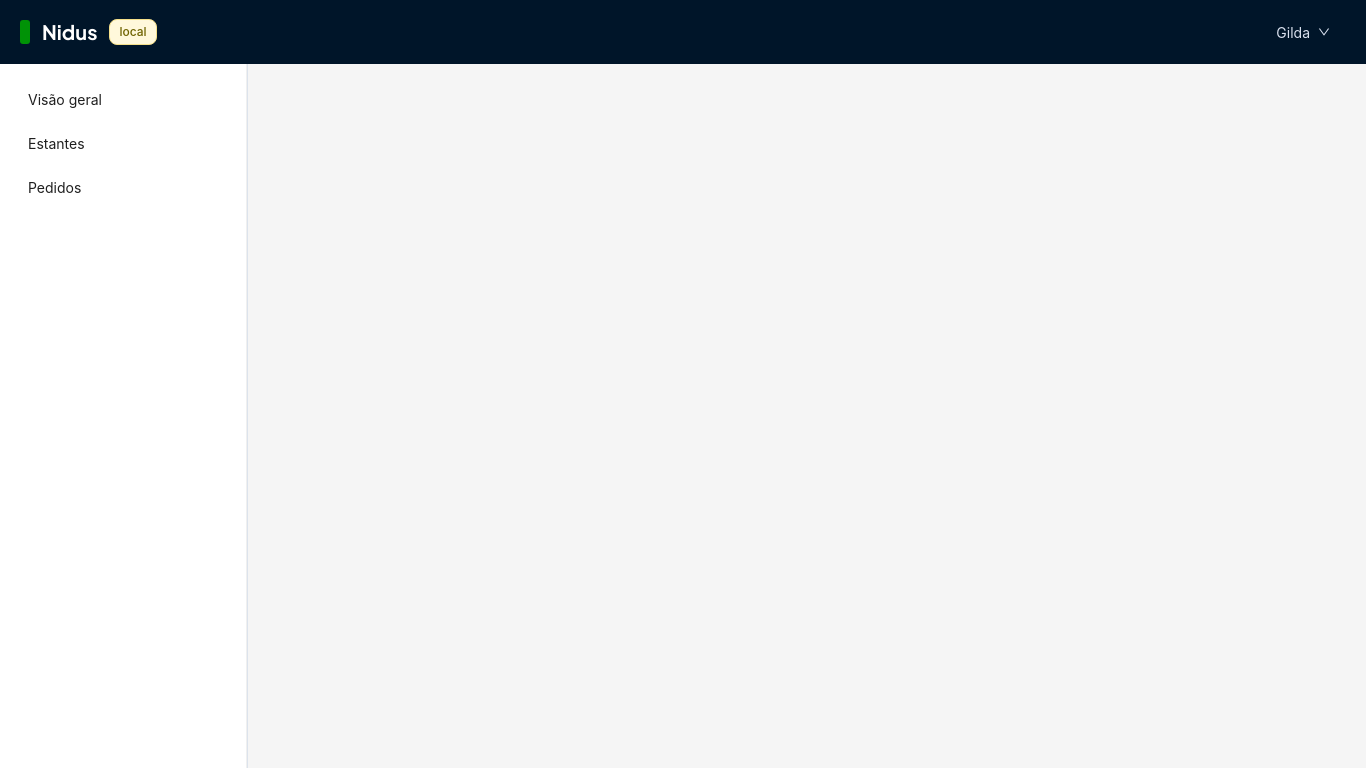
it: Tema escuro no menu da conta › começa claro, liga e desliga, e grava e aplica a escolha
Click the button with aria-label "Menu da conta": click(1303, 32) [1260,16,1346,48]
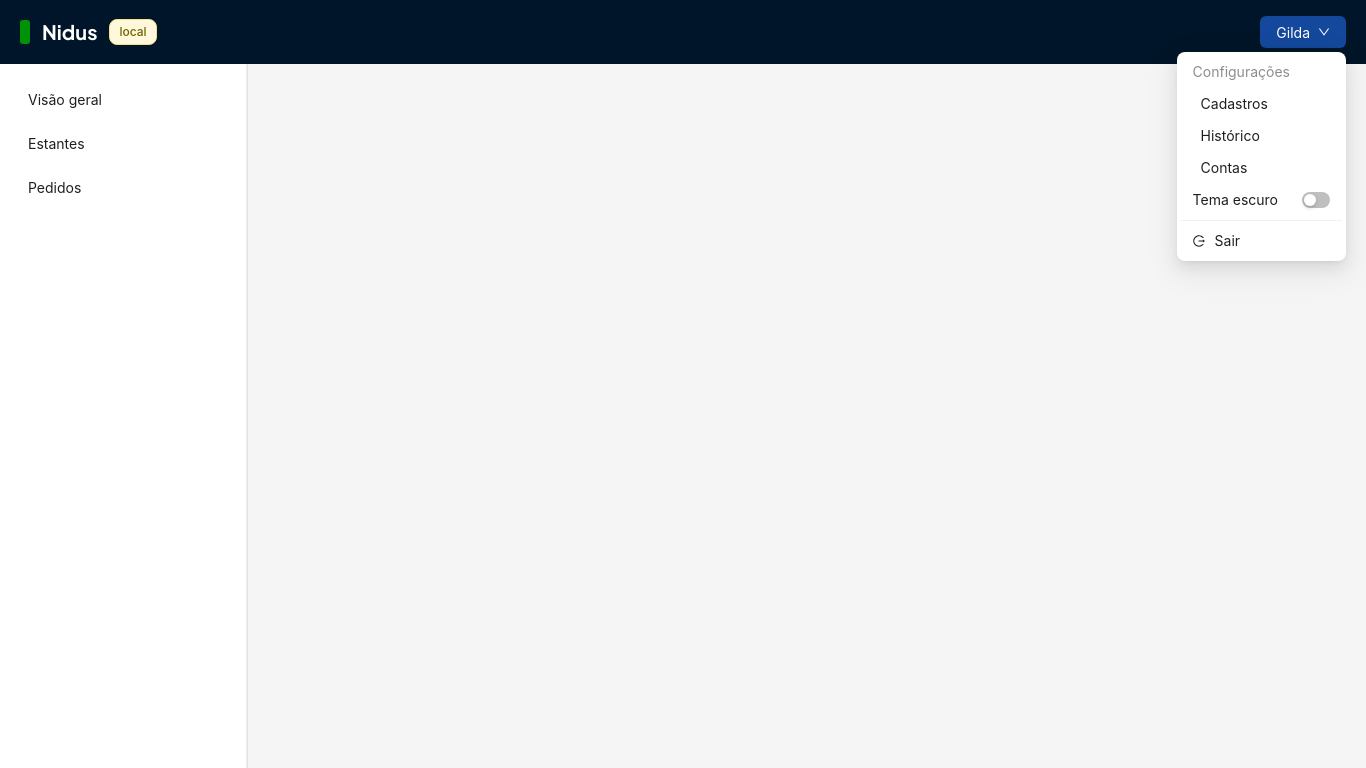
// Clicar na linha troca o tema
Click the menu item "Tema escuro": click(1261, 200) [1193,191,1330,208]
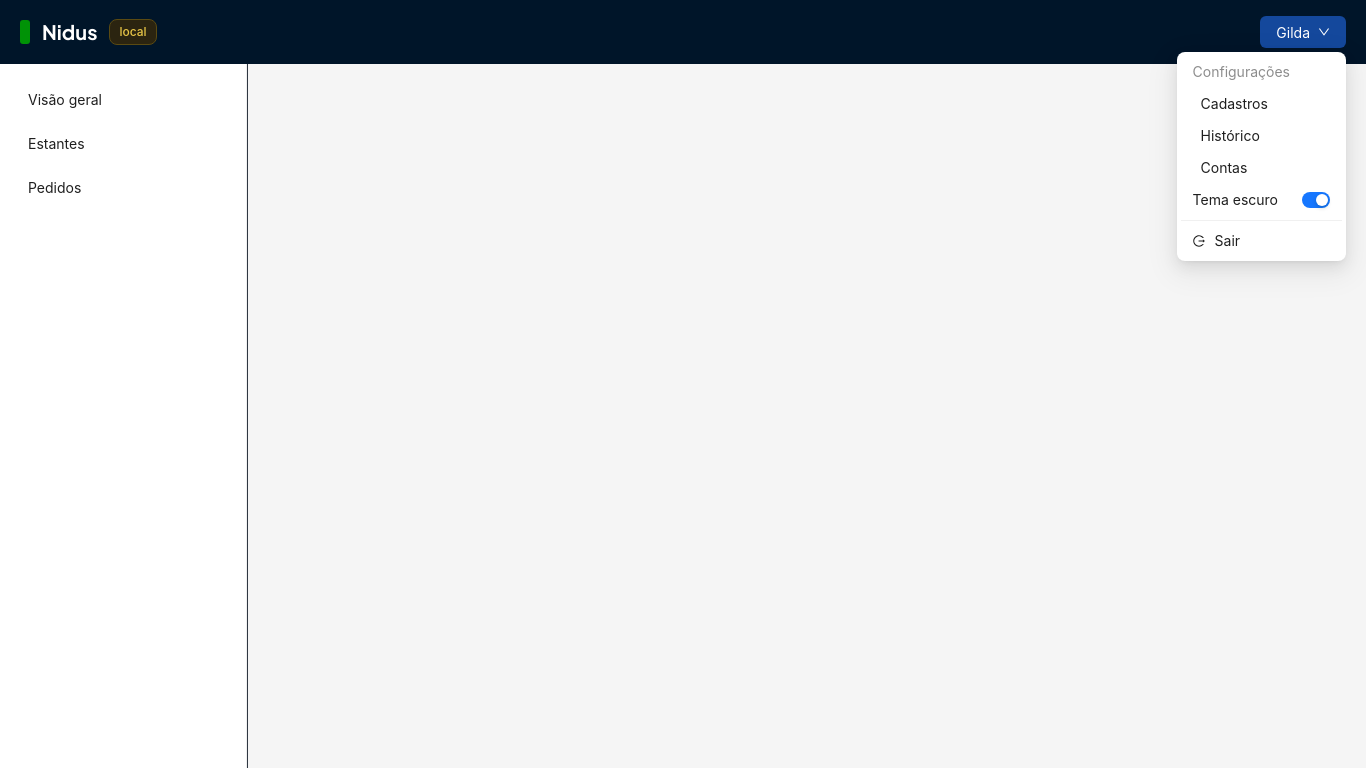
Now the switch named "Tema escuro" is checked
// Clicar no interruptor troca uma vez só, e de volta
Click the switch named "Tema escuro": click(1316, 200) [1302,192,1330,208]
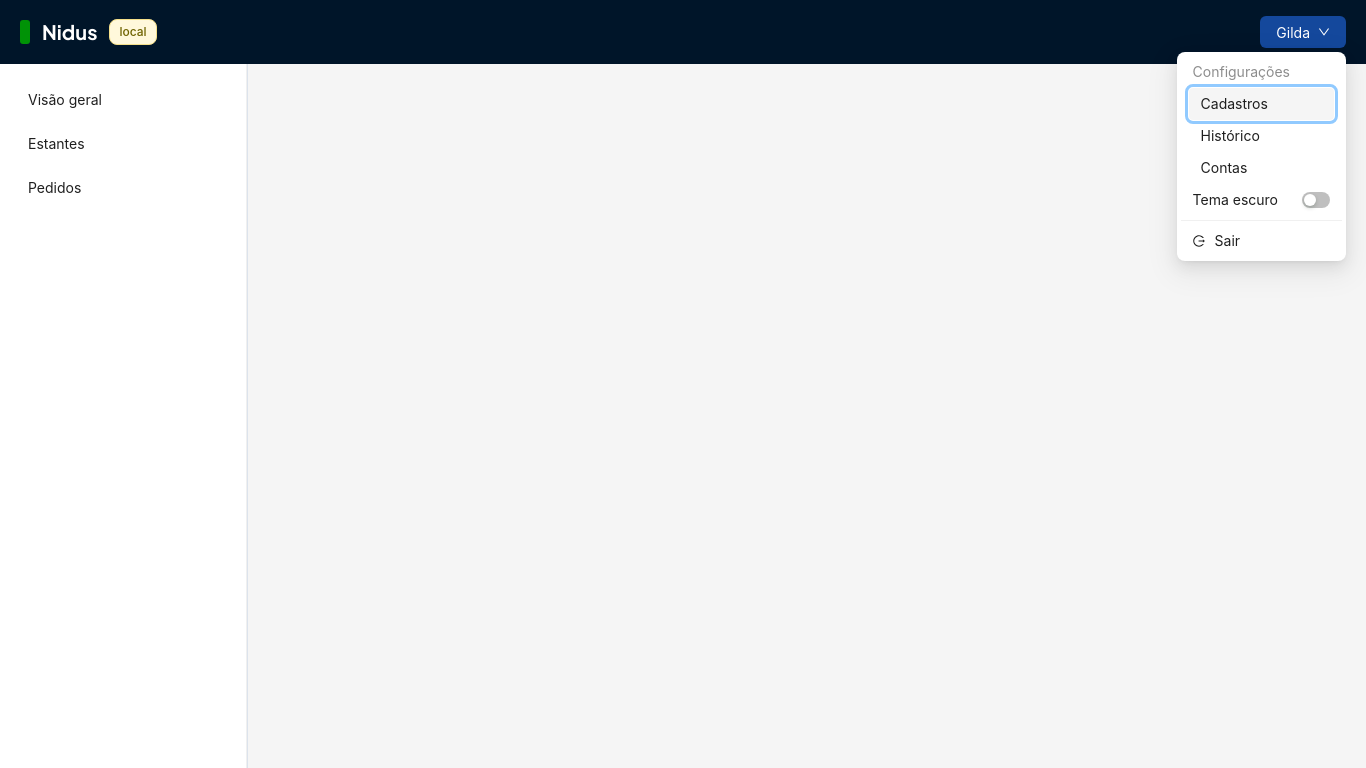
Now the switch named "Tema escuro" is not checked, box [1302,192,1330,208]
